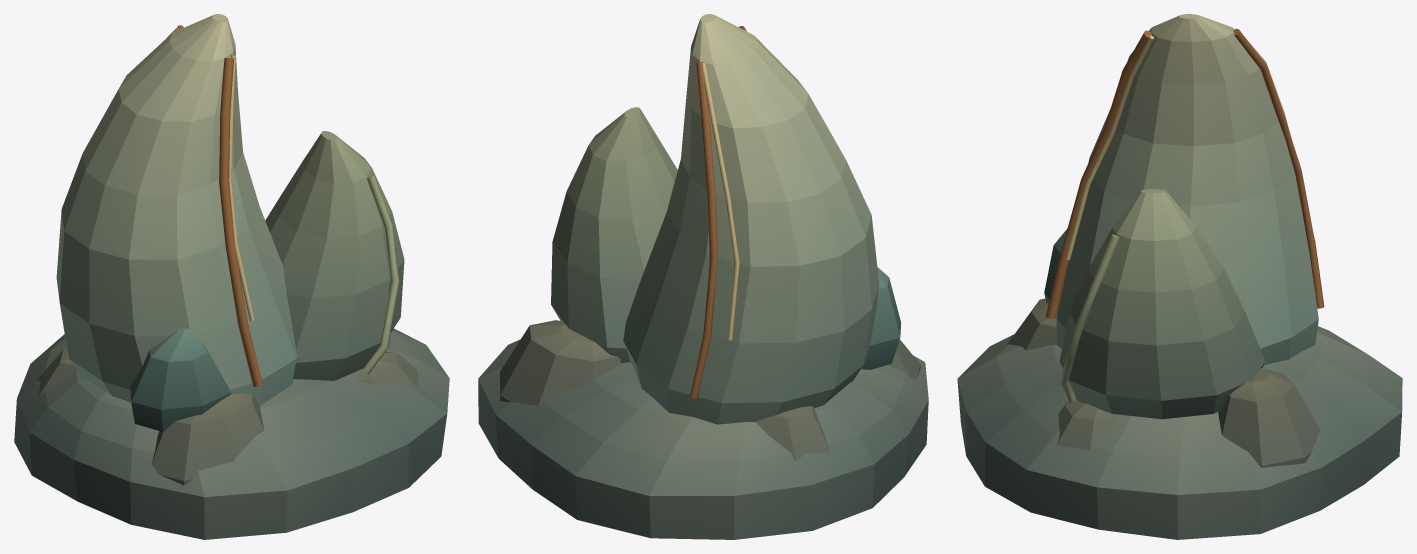
Rendered from waykeeper.glb.
3 renders of one model, left to right at view 1: azimuth 30°, elevation 25°; view 2: azimuth 150°, elevation 25°; view 3: azimuth 270°, elevation 25°, orthographic. The views are drawn at different scales.
Parts seen in each view (by area): view 1: Weathered waykeeper; view 2: Weathered waykeeper; view 3: Weathered waykeeper.
Part boxes in pixels (x1,y1,x2,y2): Weathered waykeeper: [14, 14, 449, 539]; Weathered waykeeper: [478, 14, 928, 539]; Weathered waykeeper: [957, 14, 1402, 539].
Size of the model in its own units: 1.9 by 2.05 by 1.9.
